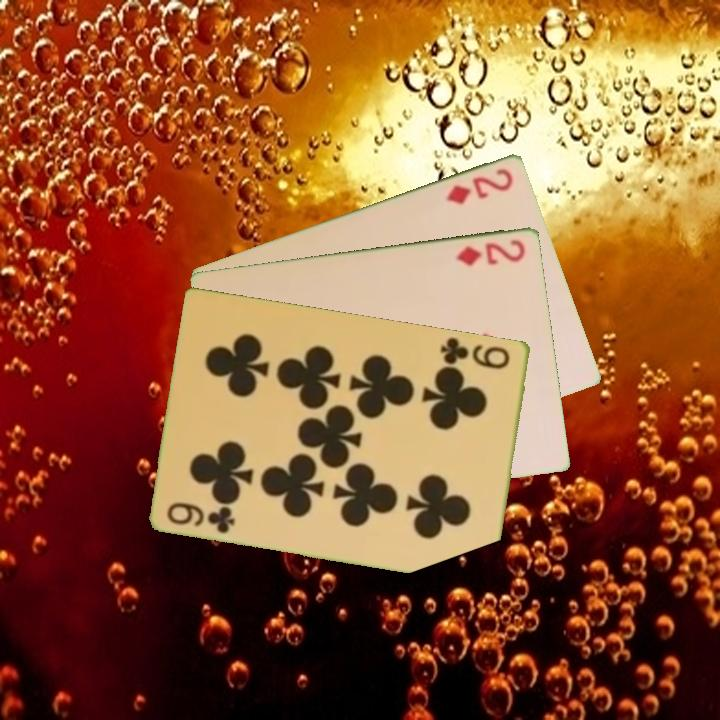2d: (442, 164, 516, 207), (452, 235, 529, 269)
9c: (437, 333, 513, 372), (164, 498, 239, 536)
